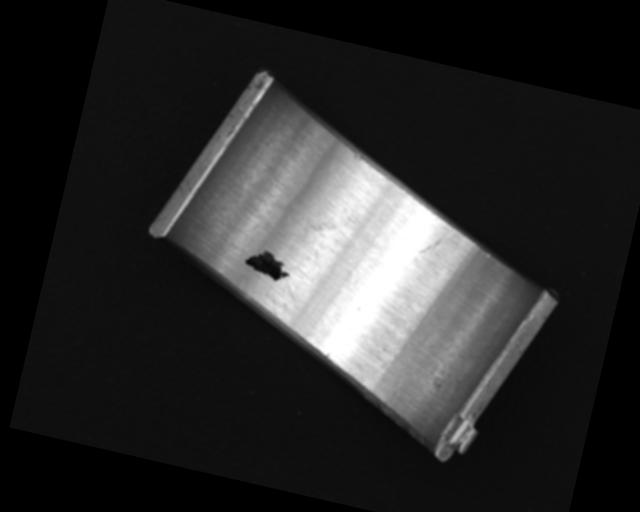blot: (272, 209, 339, 255), (240, 245, 294, 286)
bruise: (351, 150, 361, 161), (323, 350, 333, 359)
nick: (418, 219, 456, 261)
